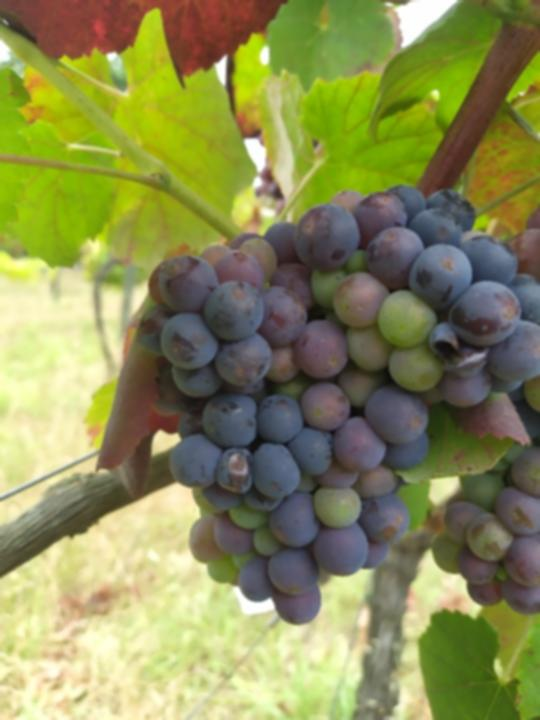grape: (130, 182, 540, 629)
